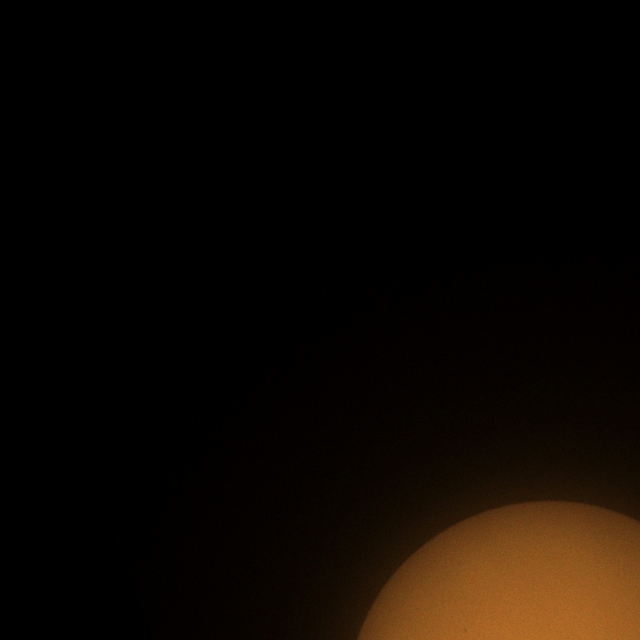sunspot: (460, 625, 473, 636)
